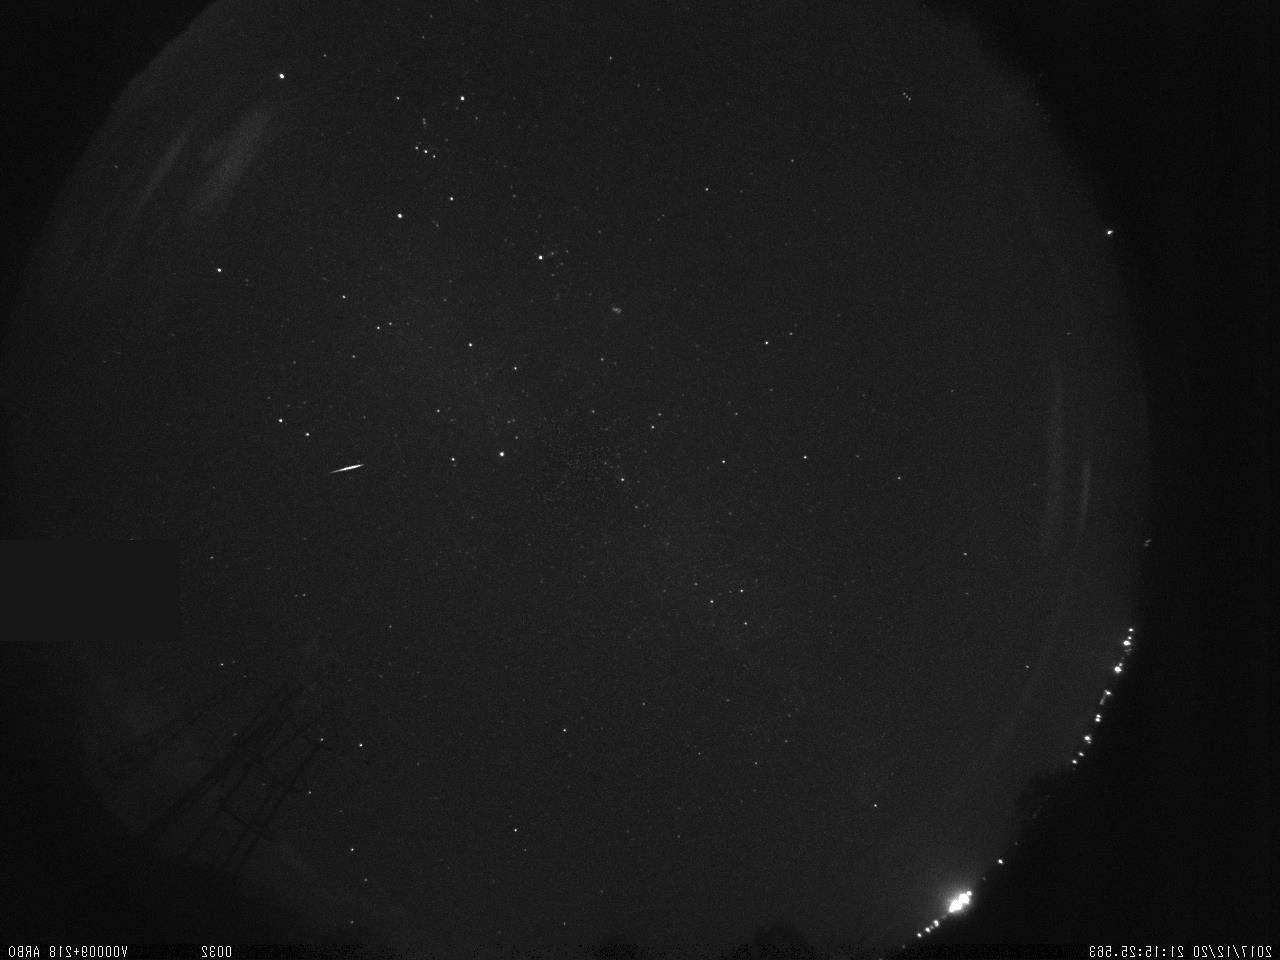meteor: (317, 455, 369, 495)
